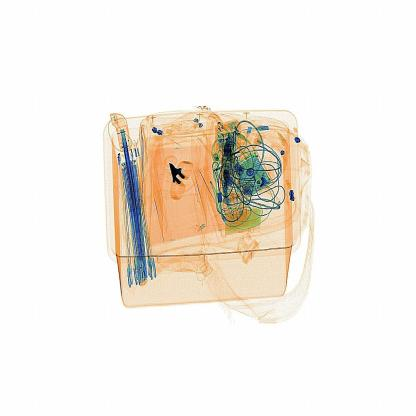gun: (166, 153, 204, 209)
